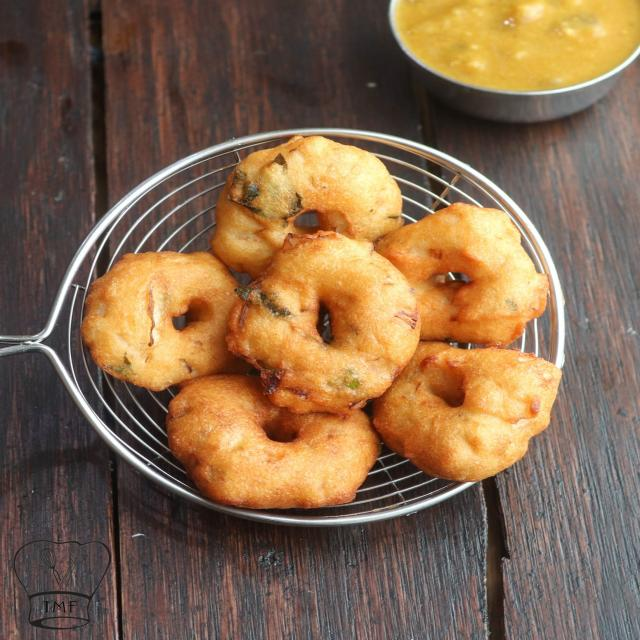SAMBAR: (406, 1, 640, 91)
